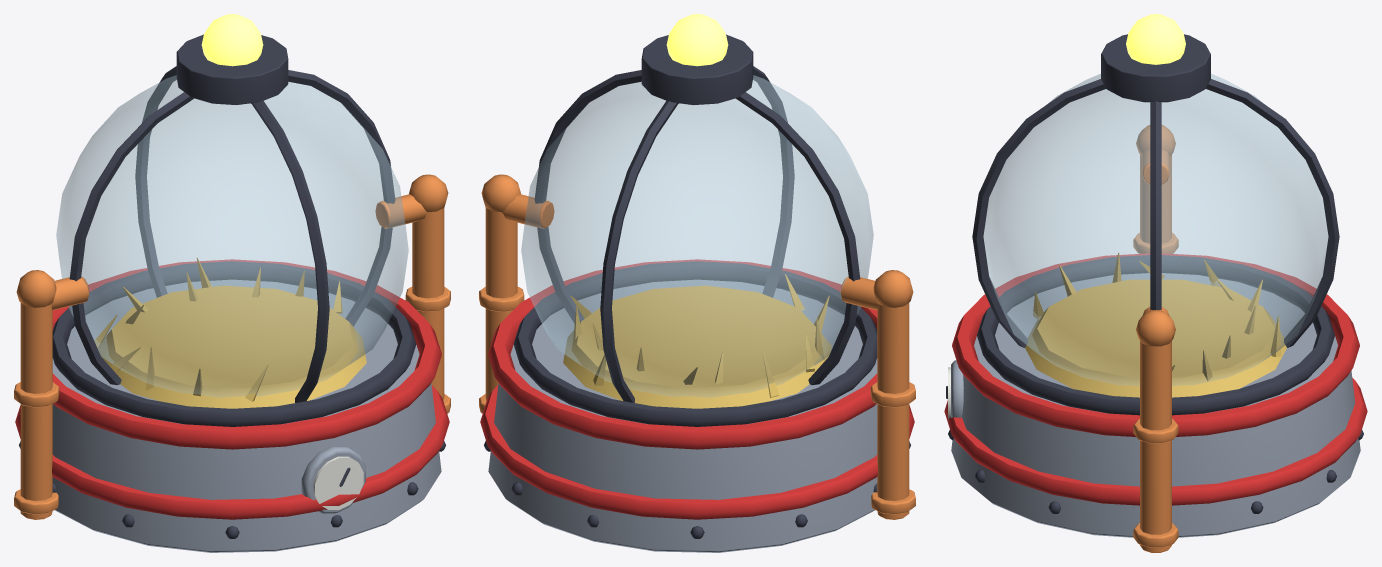
File: incubator-improved.glb
The picture shows the model from 3 angles, left to right: view 1: azimuth 30°, elevation 25°; view 2: azimuth 150°, elevation 25°; view 3: azimuth 270°, elevation 25°; orthographic projection. The views are drawn at different scales.
Parts seen in each view (by area): view 1: IncubatorImproved_Glass, IncubatorImproved_Base, IncubatorImproved_Frame, IncubatorImproved_Bedding, IncubatorImproved_Accent, IncubatorImproved_Pipes, IncubatorImproved_Light, IncubatorImproved_Gauge, IncubatorImproved_Rivets; view 2: IncubatorImproved_Glass, IncubatorImproved_Base, IncubatorImproved_Frame, IncubatorImproved_Bedding, IncubatorImproved_Accent, IncubatorImproved_Pipes, IncubatorImproved_Light, IncubatorImproved_Rivets; view 3: IncubatorImproved_Glass, IncubatorImproved_Base, IncubatorImproved_Frame, IncubatorImproved_Bedding, IncubatorImproved_Accent, IncubatorImproved_Pipes, IncubatorImproved_Light, IncubatorImproved_Rivets.
Part boxes in pixels (x1,y1,x2,y2): IncubatorImproved_Glass: [56, 75, 408, 397]; IncubatorImproved_Base: [52, 279, 441, 552]; IncubatorImproved_Frame: [52, 34, 416, 486]; IncubatorImproved_Bedding: [94, 257, 366, 408]; IncubatorImproved_Accent: [15, 259, 449, 519]; IncubatorImproved_Pipes: [14, 174, 450, 519]; IncubatorImproved_Light: [201, 14, 263, 66]; IncubatorImproved_Gauge: [313, 456, 363, 509]; IncubatorImproved_Rivets: [19, 441, 445, 538]; IncubatorImproved_Glass: [521, 75, 873, 397]; IncubatorImproved_Base: [488, 279, 877, 552]; IncubatorImproved_Frame: [513, 34, 877, 426]; IncubatorImproved_Bedding: [563, 274, 831, 408]; IncubatorImproved_Accent: [480, 259, 914, 519]; IncubatorImproved_Pipes: [479, 174, 915, 519]; IncubatorImproved_Light: [666, 14, 728, 66]; IncubatorImproved_Rivets: [484, 441, 910, 538]; IncubatorImproved_Glass: [983, 74, 1328, 385]; IncubatorImproved_Base: [951, 273, 1360, 537]; IncubatorImproved_Frame: [946, 34, 1339, 415]; IncubatorImproved_Bedding: [1025, 252, 1286, 397]; IncubatorImproved_Accent: [944, 253, 1367, 505]; IncubatorImproved_Pipes: [1133, 125, 1178, 552]; IncubatorImproved_Light: [1126, 14, 1185, 64]; IncubatorImproved_Rivets: [948, 430, 1363, 513].
Bounding box in the file's own units: 9.66 × 9.65 × 8.46.
